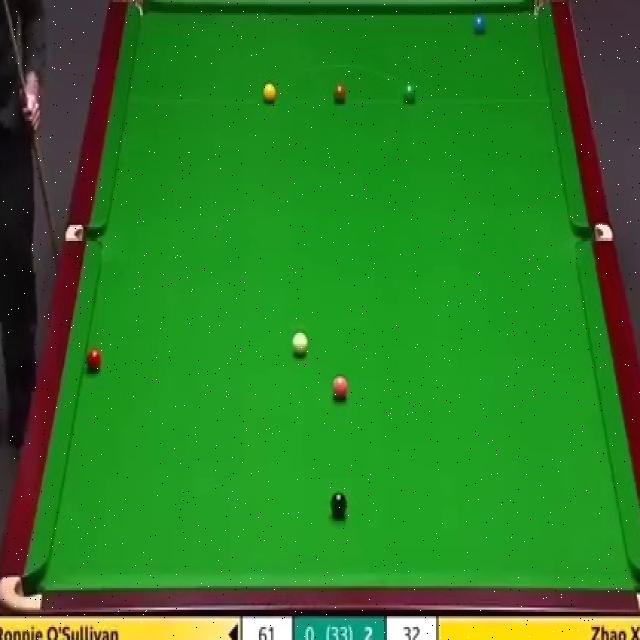black-ball: (330, 490, 346, 518)
blue-ball: (472, 14, 488, 35)
brown-ball: (332, 85, 347, 102)
green-ball: (402, 80, 418, 106)
pink-ball: (330, 372, 350, 407)
red-ball: (86, 347, 103, 372)
white-ball: (290, 333, 310, 361)
yellow-ball: (261, 81, 277, 104)
